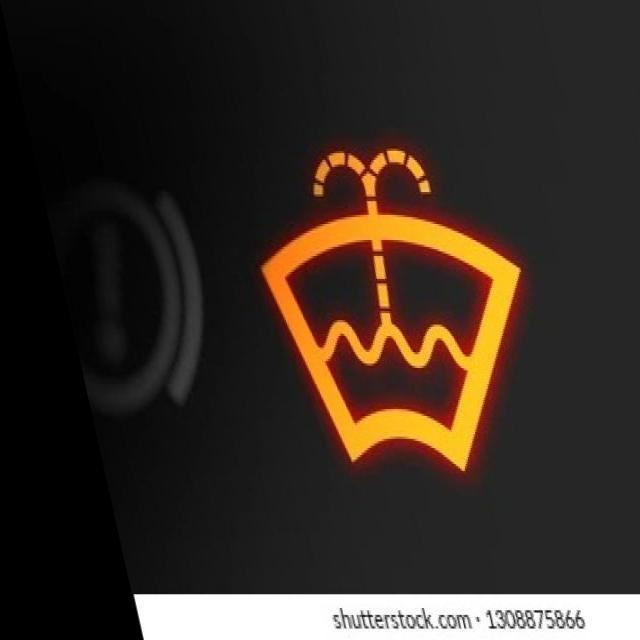Washer Fluid: (258, 148, 524, 474)
